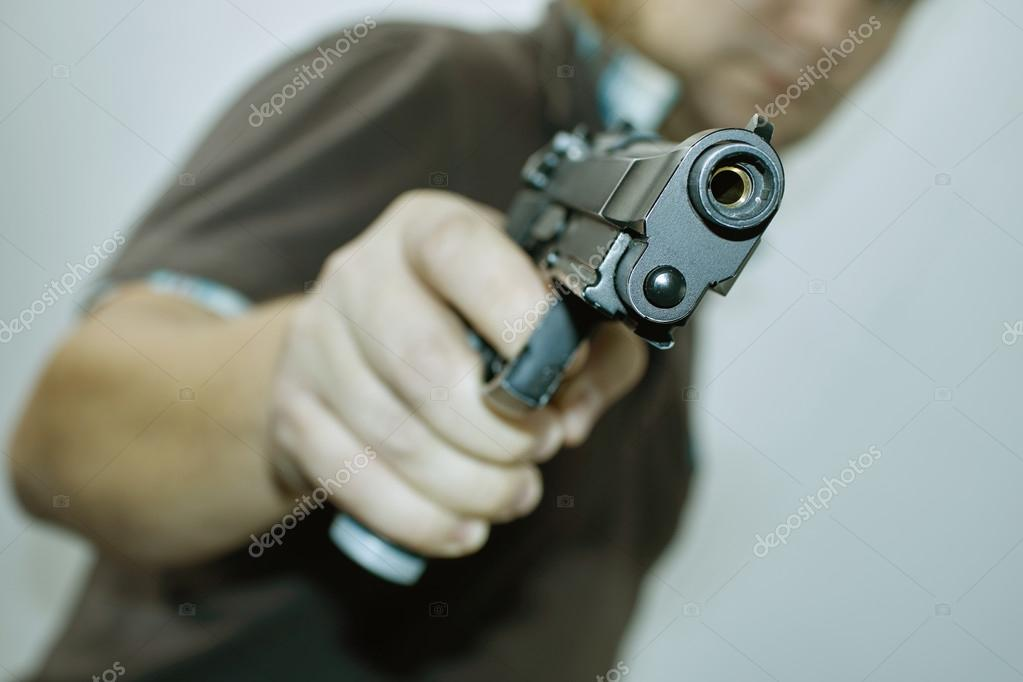gun: (365, 108, 823, 613)
